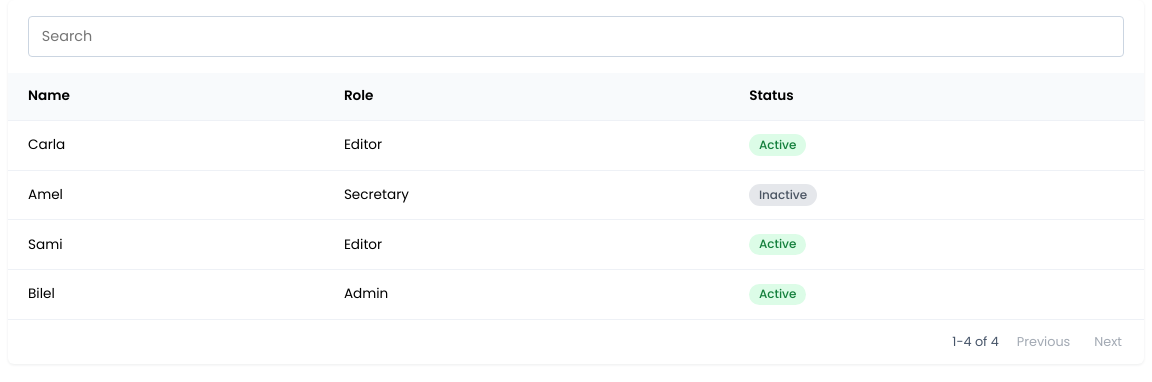
Scenario: DataTableComponent › client mode › shows the empty message when nothing matches
This screenshot has width=1152, height=382.
In the search field with class "search": {"x": 576, "y": 36} x1=28 y1=16 x2=1124 y2=57, type "zzz"
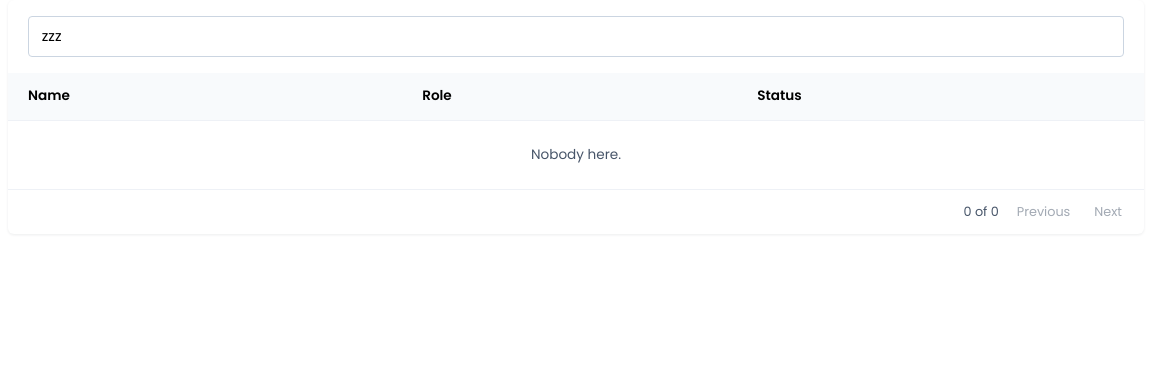
Expected: the cell with class "state" reads "Nobody here.", x1=531 y1=145 x2=621 y2=164
Expected: the element showing "0 of 0 Previous Next" is shown, x1=964 y1=202 x2=1128 y2=222
